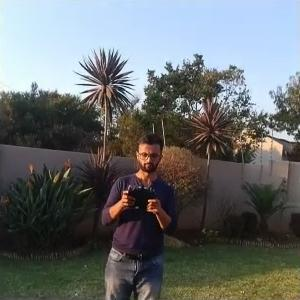follow: (91, 123, 181, 299)
